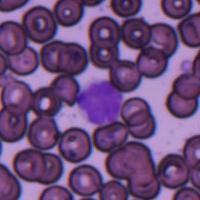M: (76, 78, 123, 125)
